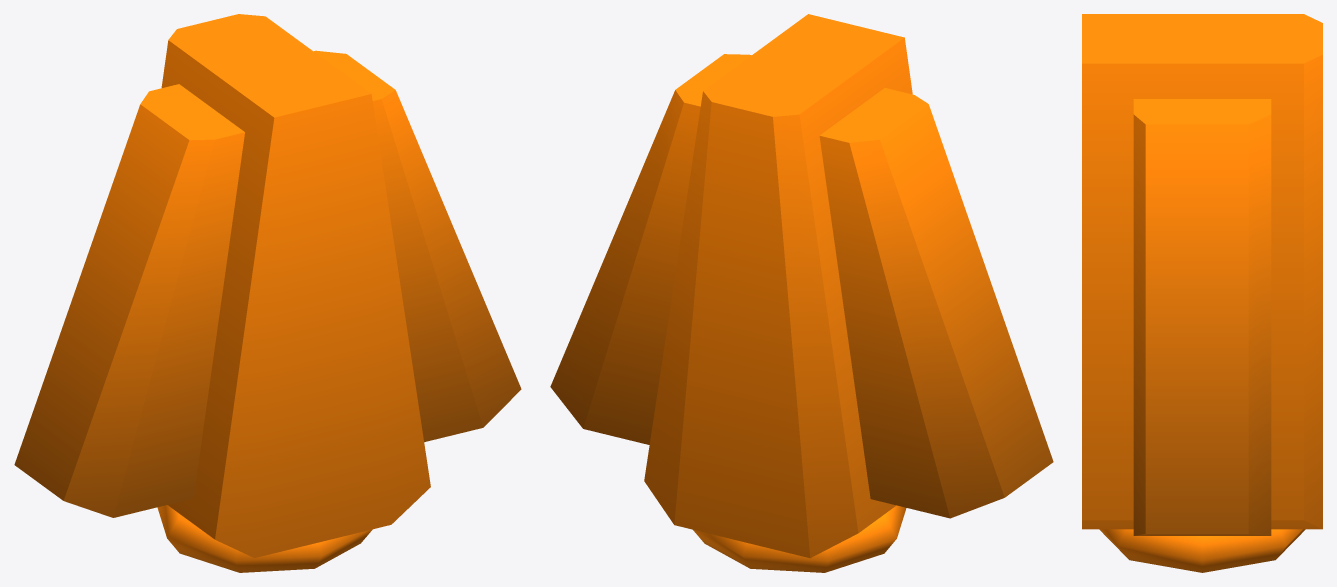
The model's file is bronze_pommel_160.glb.
The picture shows the model from 3 angles, left to right: view 1: azimuth 30°, elevation 25°; view 2: azimuth 150°, elevation 25°; view 3: azimuth 270°, elevation 25°; orthographic projection. The views are drawn at different scales.
Visible parts, largest first — view 1: bronze_pommel_160; view 2: bronze_pommel_160; view 3: bronze_pommel_160.
Boxes of the visible parts, box(x1,y1,x2,y2) form: bronze_pommel_160: box(14, 14, 521, 572); bronze_pommel_160: box(550, 14, 1053, 572); bronze_pommel_160: box(1082, 14, 1322, 572).
Bounding box in the file's own units: 2.35 × 2.3 × 1.02.
Materials: 1 (1 with a texture image).
